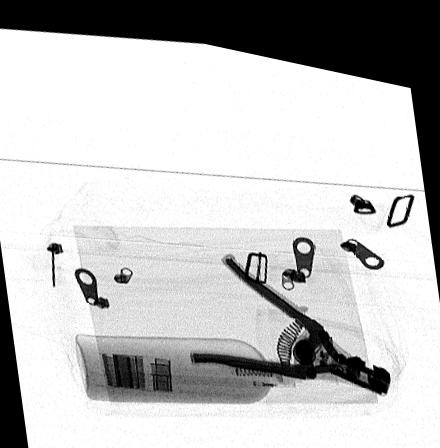Pliers: (189, 244, 392, 379)
